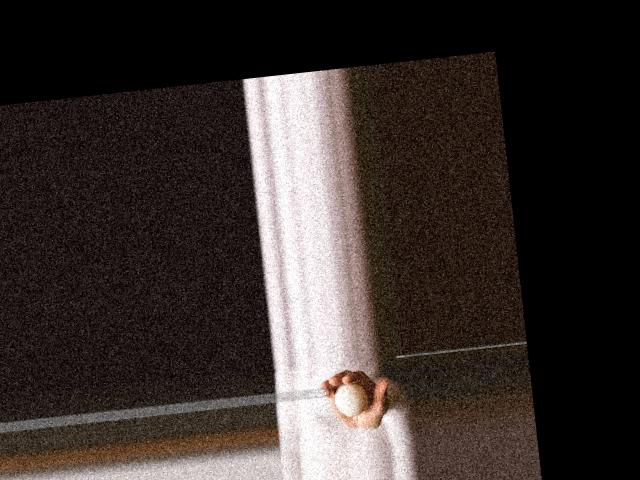egg: (332, 380, 369, 417)
